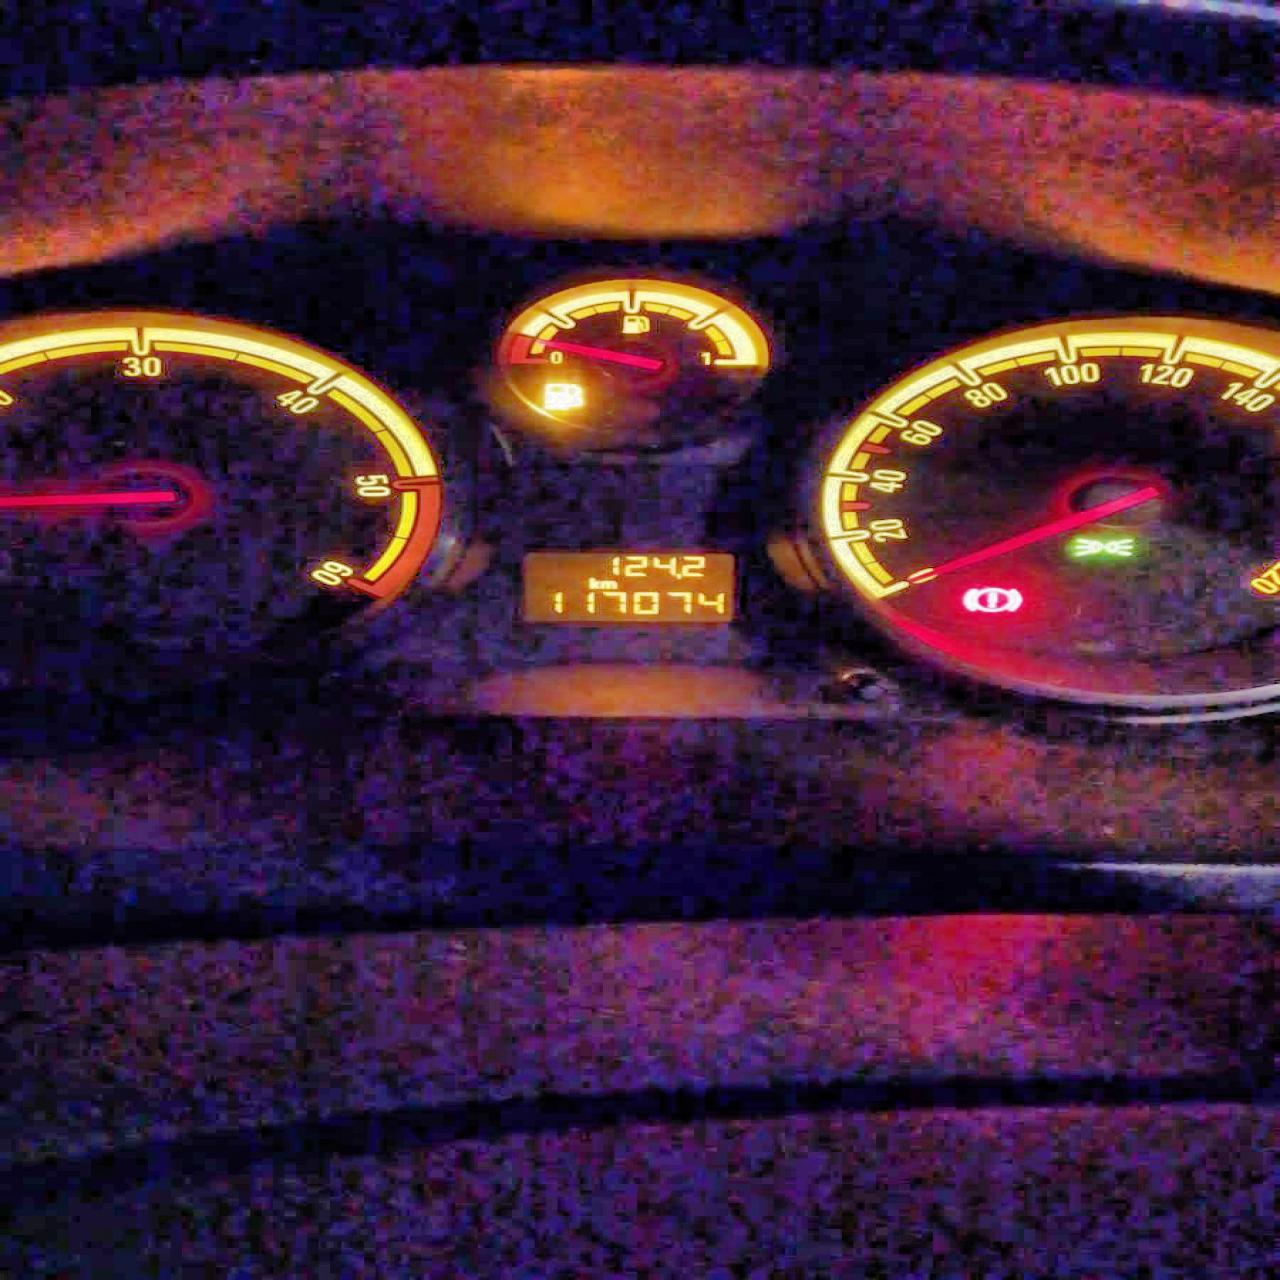-: (674, 573, 681, 579)
0: (629, 592, 660, 614)
1: (551, 591, 565, 613), (583, 591, 595, 614), (608, 554, 620, 576)
2: (621, 554, 647, 576), (681, 556, 706, 577)
4: (695, 592, 723, 614), (652, 556, 675, 576)
7: (666, 591, 693, 614), (599, 591, 626, 613)
X: (598, 579, 618, 588), (586, 576, 599, 588)
odometer: (517, 549, 740, 624)
